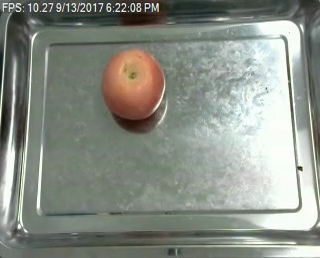Apple: (97, 46, 168, 123)
